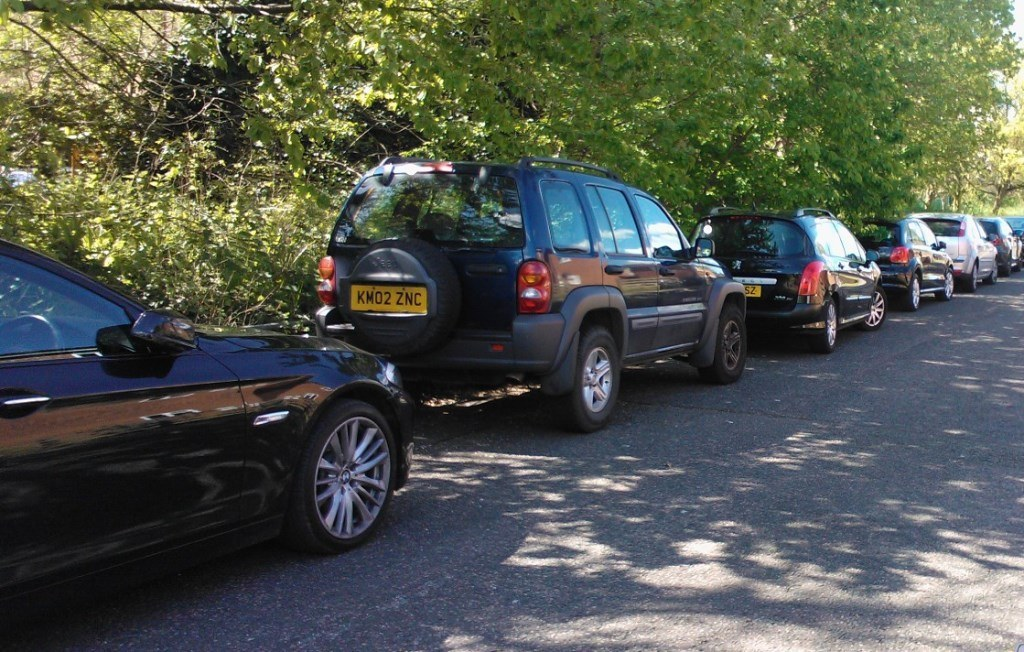car: (2, 220, 408, 560), (345, 157, 747, 411), (689, 186, 888, 352), (861, 207, 955, 309), (910, 207, 999, 280), (979, 211, 1024, 262)
